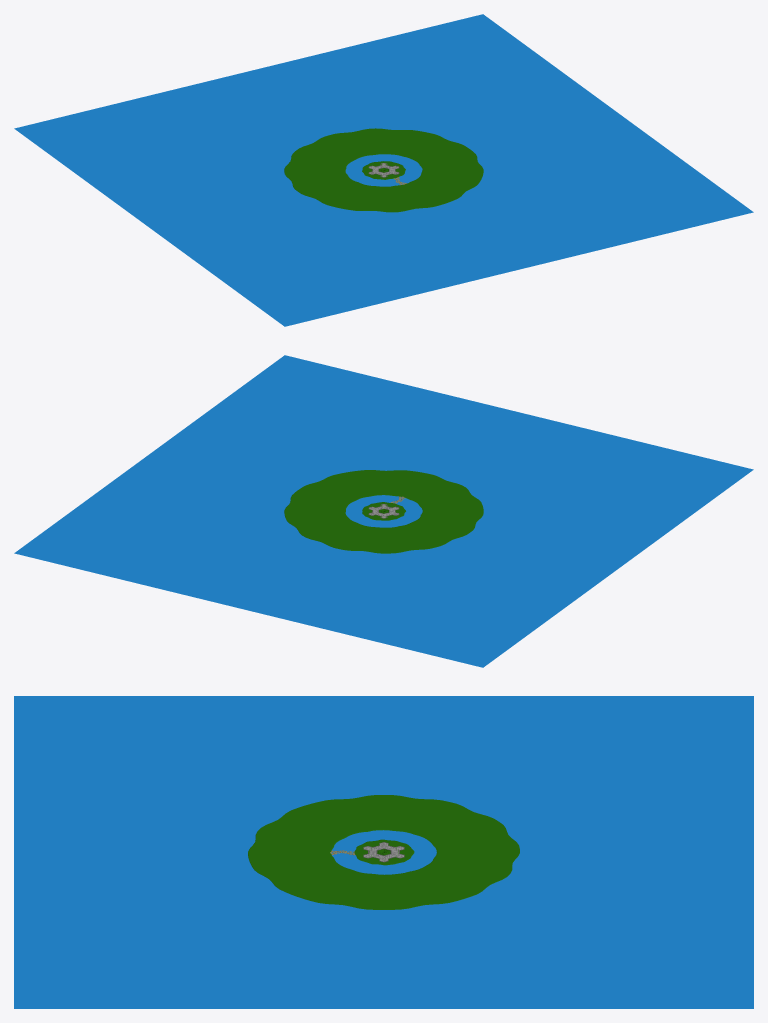
The model's file is Land.glb.
3 renders of one model, top to bottom at view 1: azimuth 30°, elevation 25°; view 2: azimuth 150°, elevation 25°; view 3: azimuth 270°, elevation 25°, orthographic. The views are drawn at different scales.
Visible parts, largest first — view 1: Water, Island; view 2: Water, Island; view 3: Water, Island.
Boxes of the visible parts, left/top/right/bottom form: Water: left=14, top=14, right=753, bottom=326; Island: left=284, top=128, right=483, bottom=212; Water: left=14, top=355, right=753, bottom=667; Island: left=284, top=470, right=483, bottom=553; Water: left=14, top=696, right=753, bottom=1008; Island: left=248, top=795, right=519, bottom=909.
Size of what is drawn, in the model's own units: 400 by 20.23 by 400.
